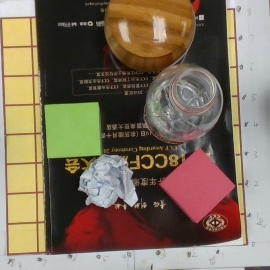bottle: (136, 64, 223, 145)
chess: (103, 1, 196, 67)
